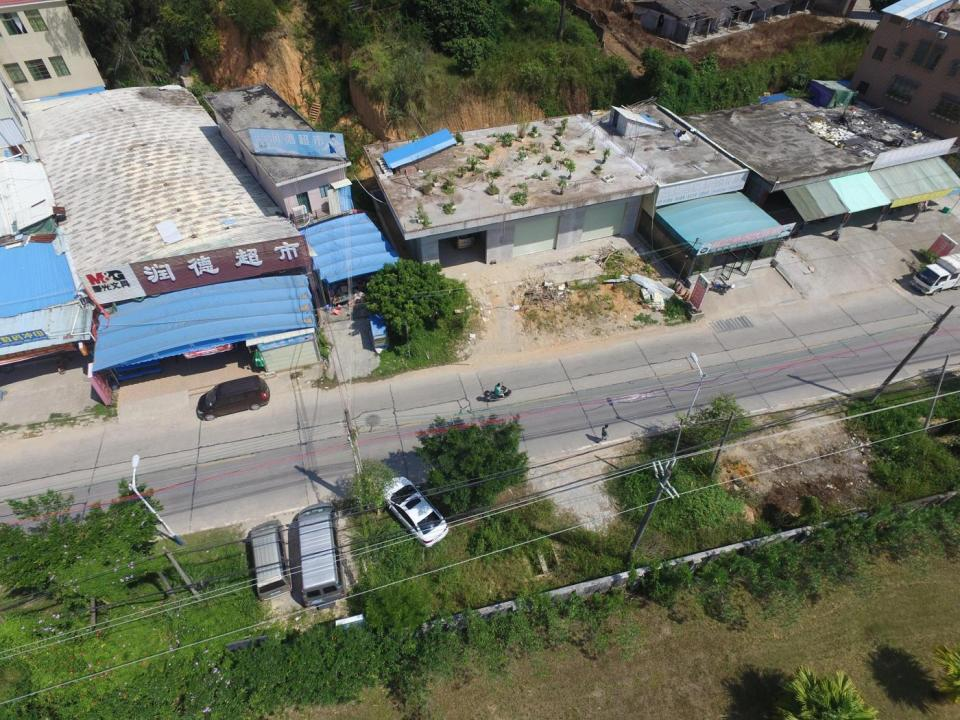bus: (374, 478, 448, 550), (298, 506, 344, 612)
car: (196, 374, 270, 422), (247, 522, 291, 601)
truck: (910, 253, 960, 295)
van: (453, 232, 475, 248)
